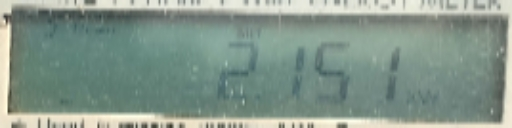1: (287, 40, 311, 112), (383, 39, 406, 108)
2: (217, 37, 256, 109)
5: (313, 34, 358, 114)
d: (250, 88, 271, 114)
